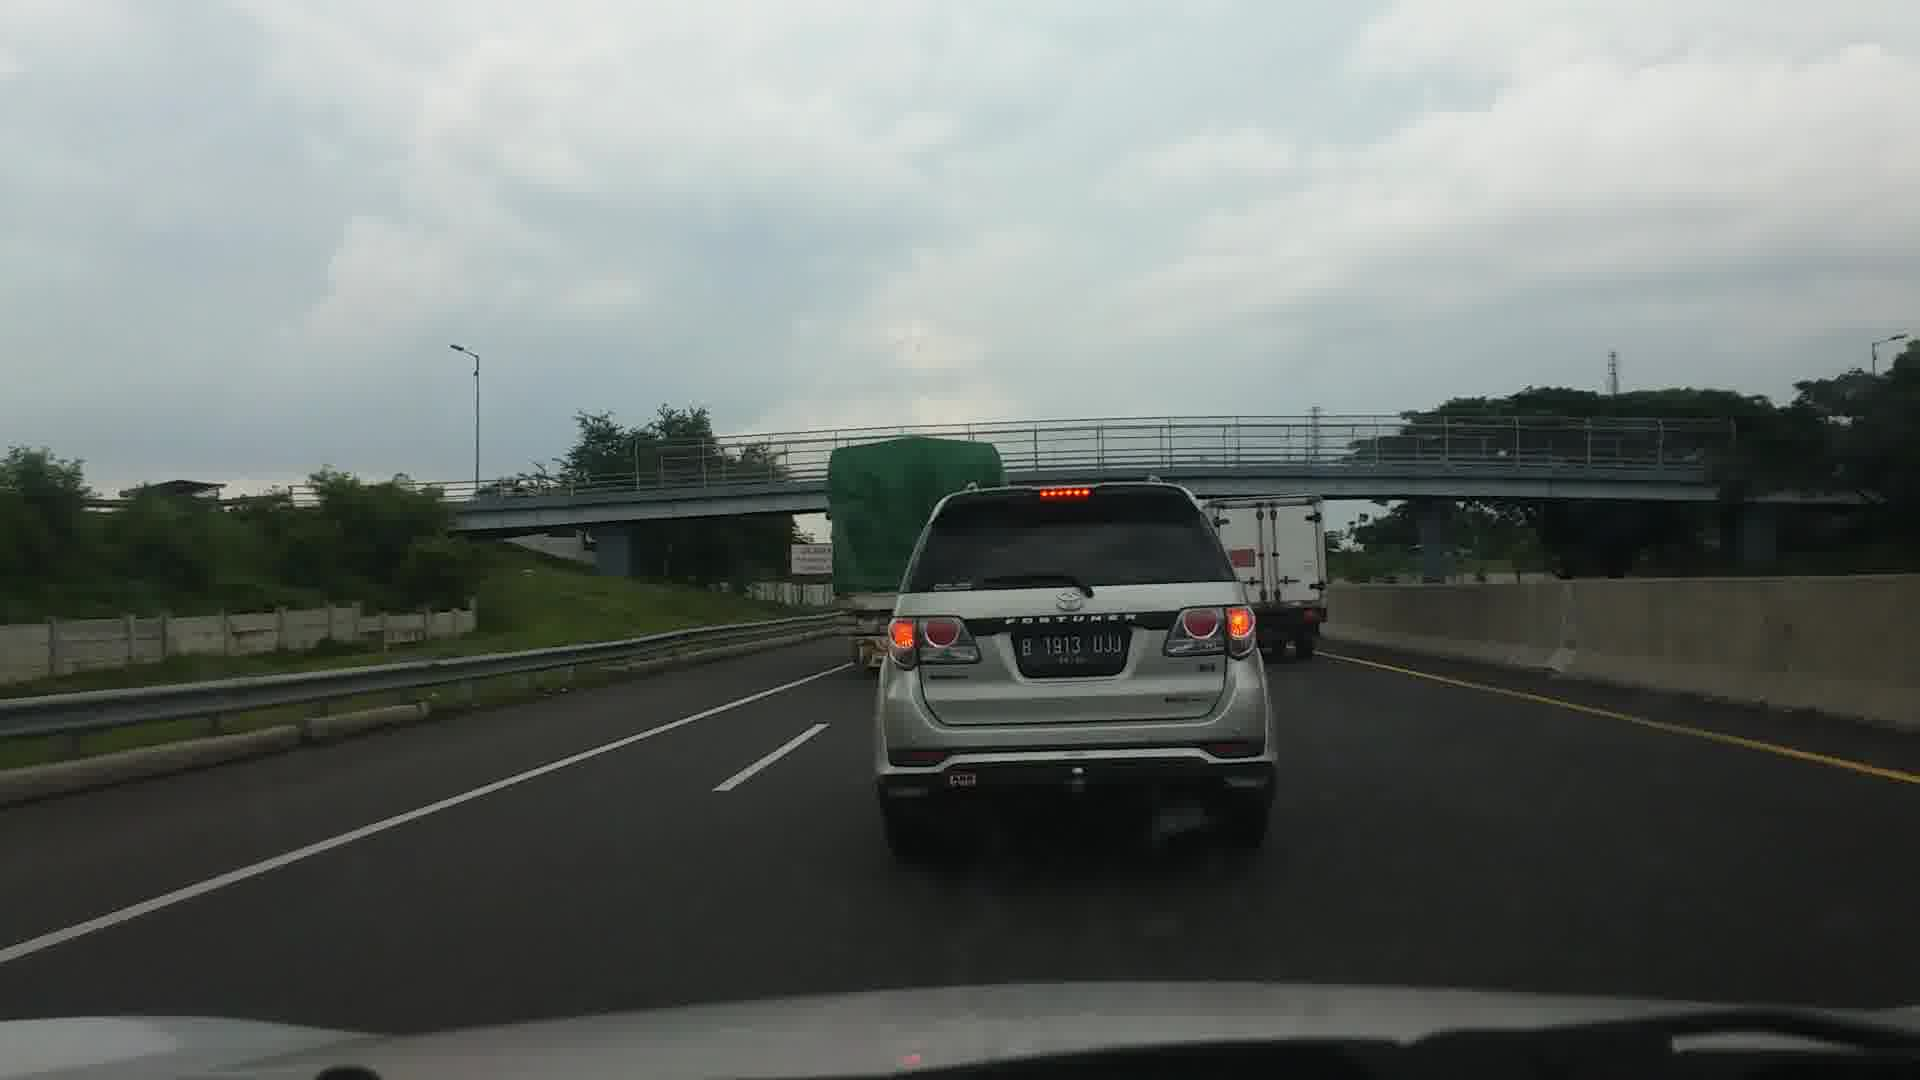plate_positive: (1017, 632, 1125, 665)
